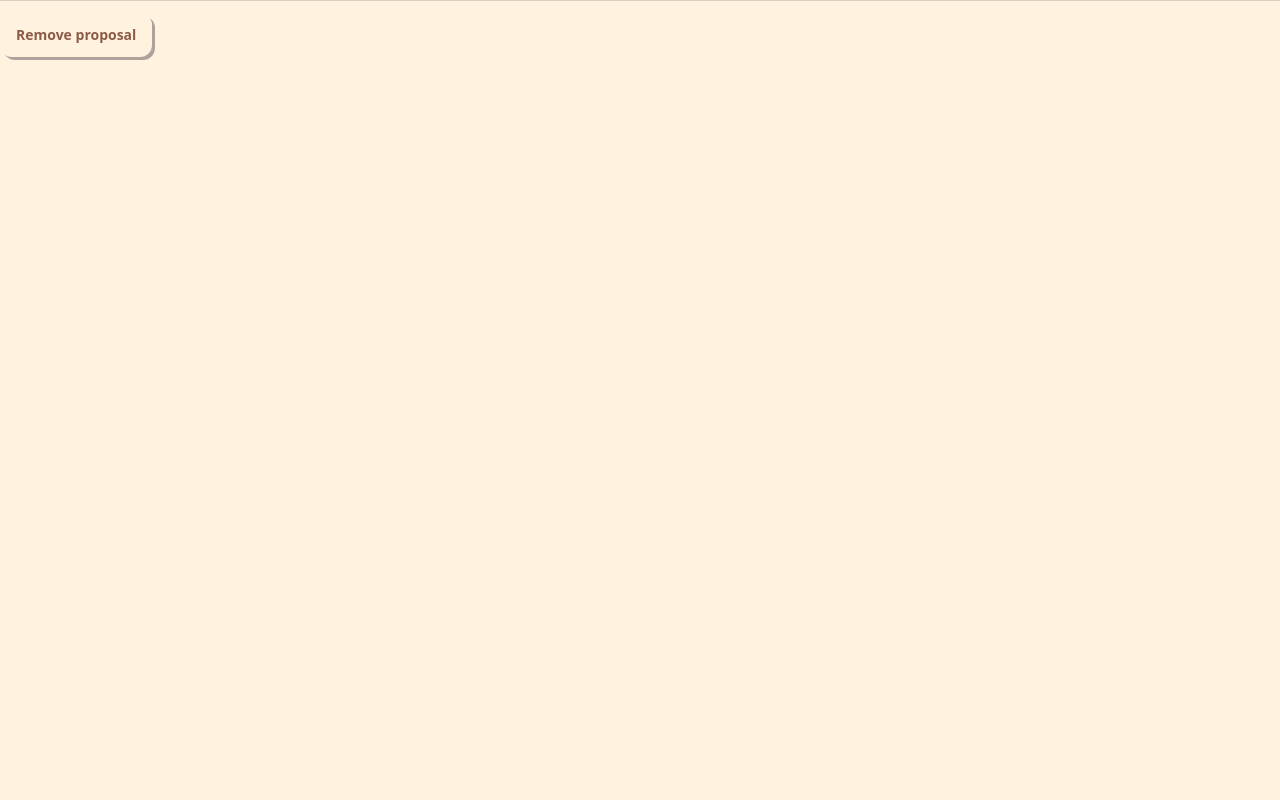
Test case: ProposalLifecycleActions › permanently deletes the proposal only after explicit confirmation
Later steps or results of the test are not shown.
What coordinates should you click on to do the following:
click the button "Remove proposal"
I would click on:
 (76, 35)
Its box is [0, 13, 152, 57].
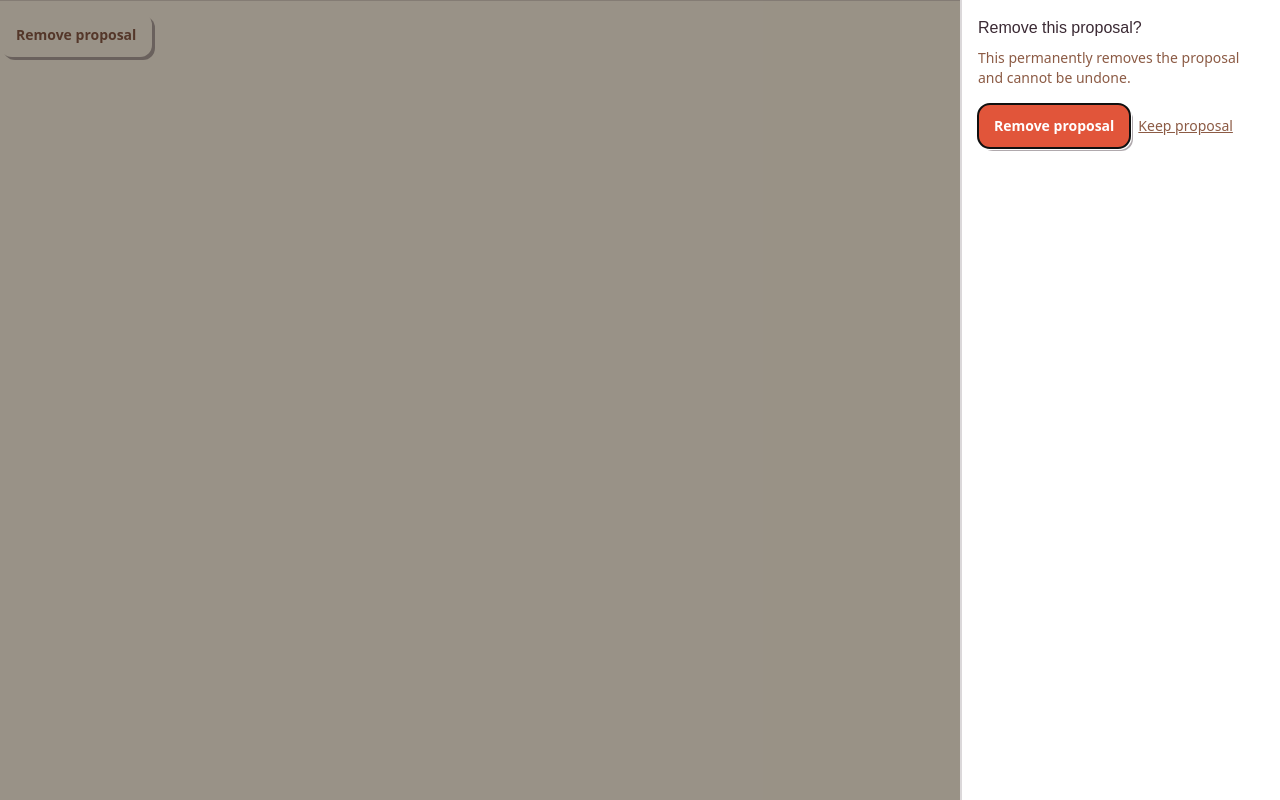
Expected: the heading "Remove this proposal?" is shown, [978, 19, 1142, 36]
Expected: the text "This permanently removes the proposal and cannot be undone." is shown, [978, 48, 1264, 88]
